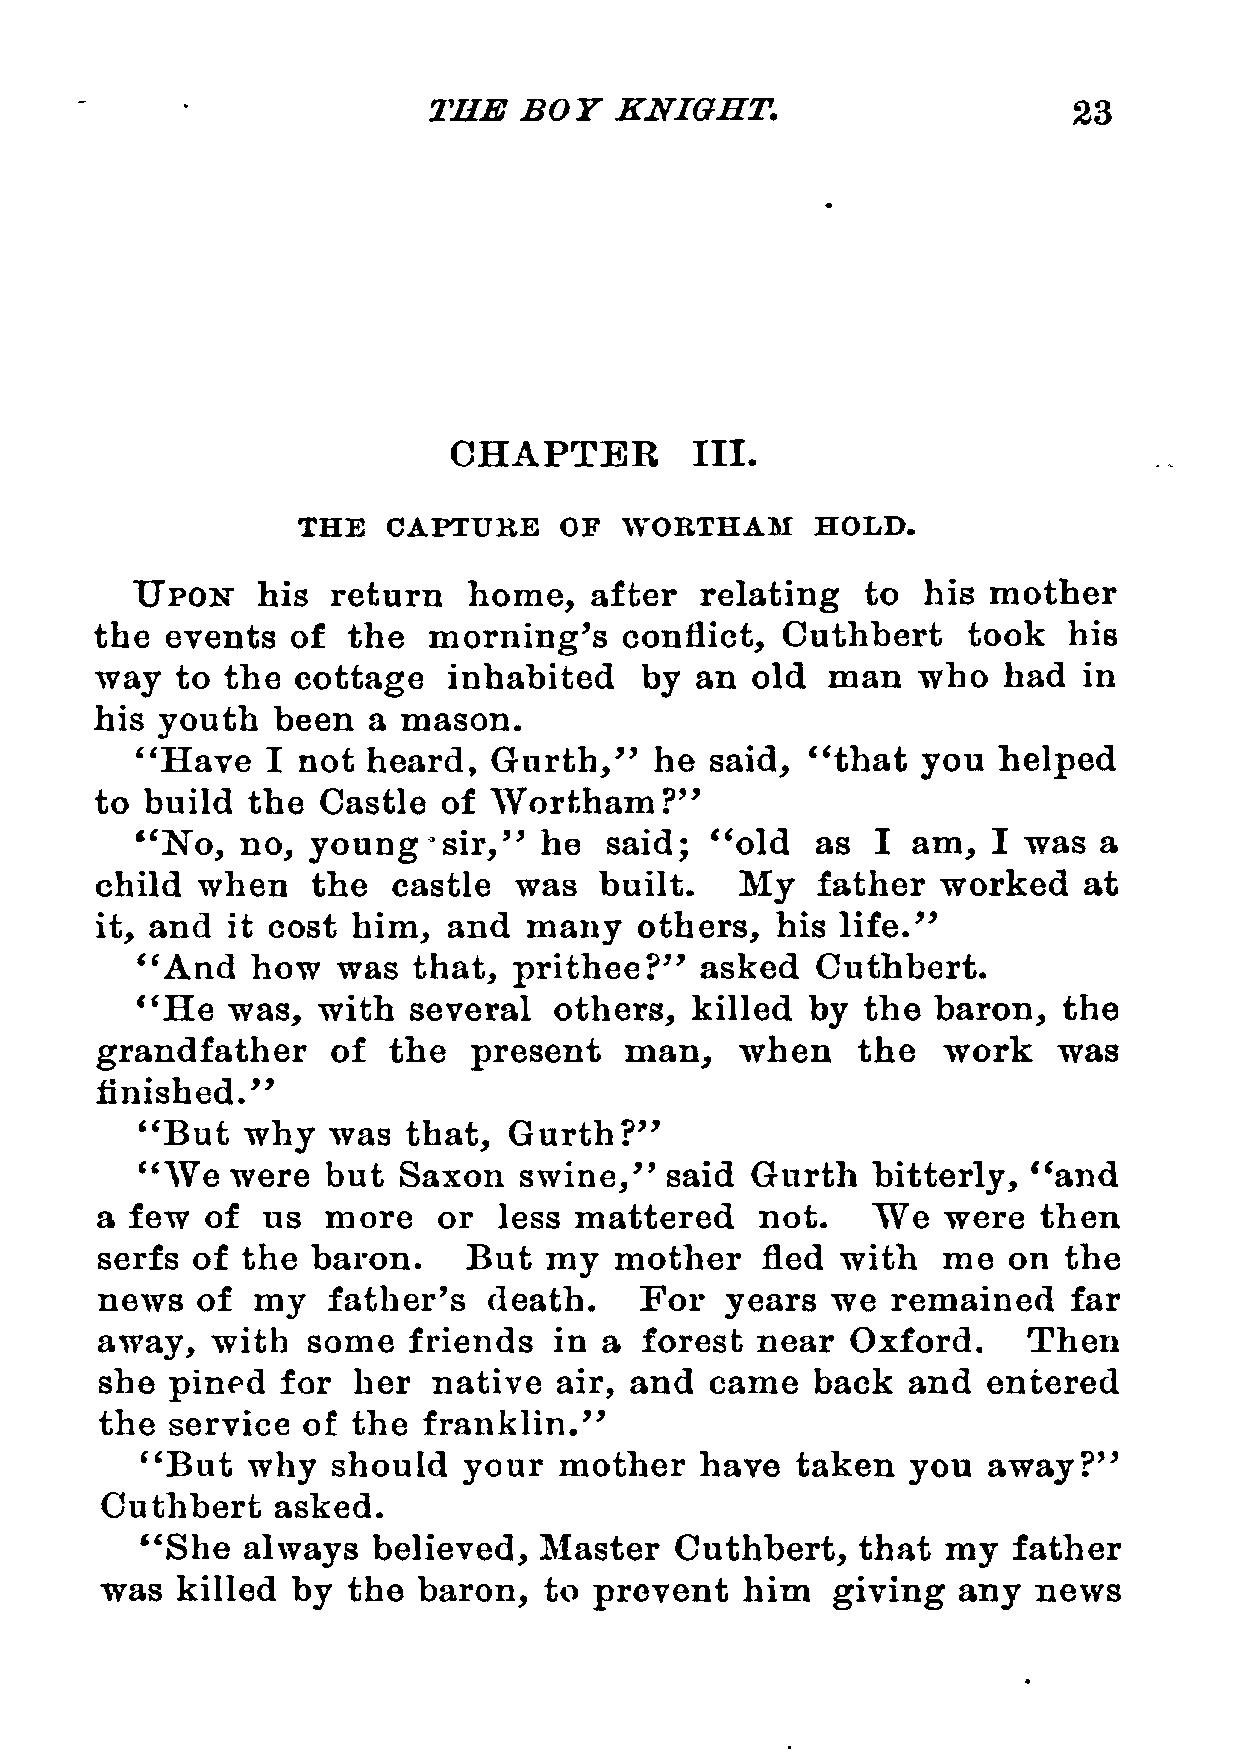chapter: (293, 437, 915, 541), (423, 91, 782, 123)
content: (89, 576, 1121, 1612)
content_pagenumber: (1070, 95, 1114, 127)
